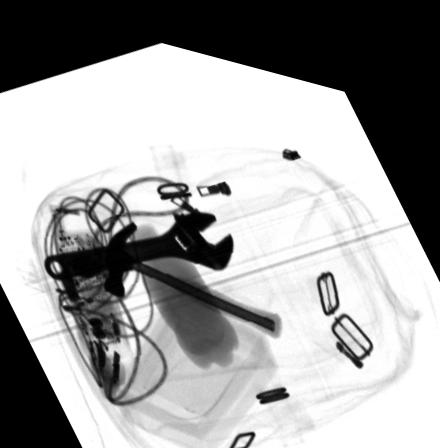Hammer: (103, 212, 283, 323)
Wrench: (43, 200, 234, 276)
